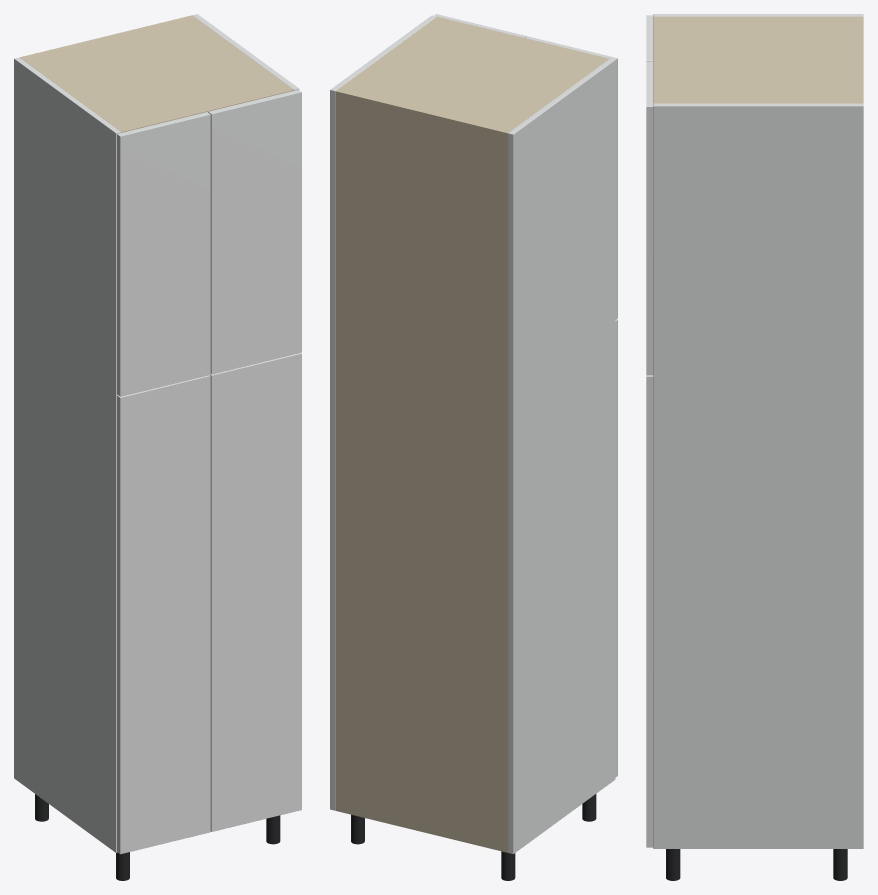
The model's file is oppein-ply-pgw-pc2490.glb.
3 views of the same model, side by side, from view 1: azimuth 30°, elevation 25°; view 2: azimuth 150°, elevation 25°; view 3: azimuth 270°, elevation 25° (orthographic). The views are drawn at different scales.
Parts seen in each view (by area): view 1: Cabinet side, Door, Door.001, Door.002, Door.003, Cabinet top, Cabinet side.001; view 2: Cabinet back, Cabinet side, Cabinet top, Cabinet side.001, Door, Door.002; view 3: Cabinet side.001, Cabinet top, Door.001, Door.003, Cabinet side, Adjustable foot.003, Adjustable foot.002.
Boxes of the visible parts, left/top/right/bottom form: Cabinet side: left=14, top=57, right=121, bottom=852; Door: left=117, top=375, right=210, bottom=854; Door.001: left=210, top=353, right=301, bottom=831; Door.002: left=117, top=112, right=210, bottom=396; Door.003: left=208, top=89, right=301, bottom=374; Cabinet top: left=21, top=16, right=293, bottom=132; Cabinet side.001: left=192, top=14, right=299, bottom=90; Cabinet back: left=335, top=89, right=509, bottom=852; Cabinet side: left=508, top=59, right=615, bottom=854; Cabinet top: left=336, top=16, right=609, bottom=131; Cabinet side.001: left=330, top=15, right=436, bottom=810; Door: left=615, top=319, right=617, bottom=777; Door.002: left=525, top=36, right=617, bottom=319; Cabinet side.001: left=653, top=103, right=863, bottom=848; Cabinet top: left=653, top=16, right=859, bottom=103; Door.001: left=646, top=375, right=653, bottom=847; Door.003: left=646, top=61, right=653, bottom=375; Cabinet side: left=653, top=14, right=863, bottom=16; Adjustable foot.003: left=666, top=849, right=680, bottom=880; Adjustable foot.002: left=833, top=849, right=847, bottom=880.
Size of the model in its own units: 0.6096 by 2.4 by 0.6064.
